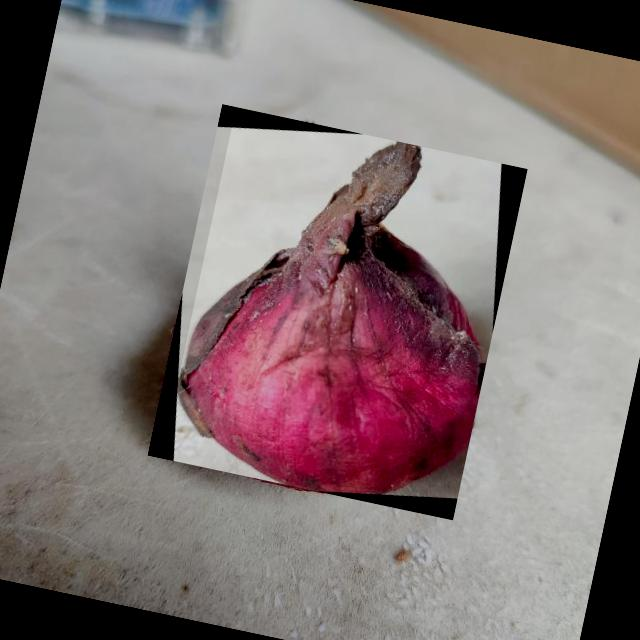rotten: (177, 141, 486, 493)
